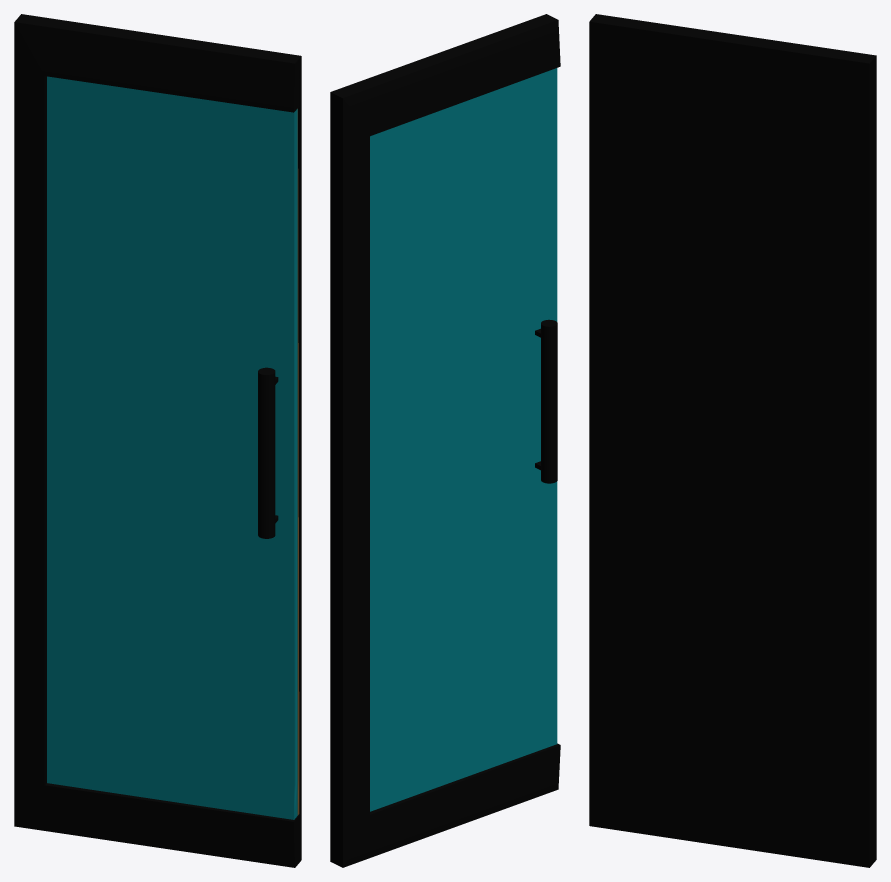
Rendered from Left_InfinityMirror_Door.fbx.
3 renders of one model, left to right at view 1: azimuth 90°, elevation 25°; view 2: azimuth 150°, elevation 25°; view 3: azimuth 270°, elevation 25°, orthographic. The views are drawn at different scales.
Visible parts, largest first — view 1: polySurface1006; view 2: polySurface1006; view 3: polySurface1006.
Boxes of the visible parts, bbox=[...] form: polySurface1006: bbox=[14, 14, 301, 867]; polySurface1006: bbox=[330, 14, 560, 867]; polySurface1006: bbox=[589, 14, 876, 867].
Bounding box in the file's own units: 8.69 × 58.67 × 18.98.
